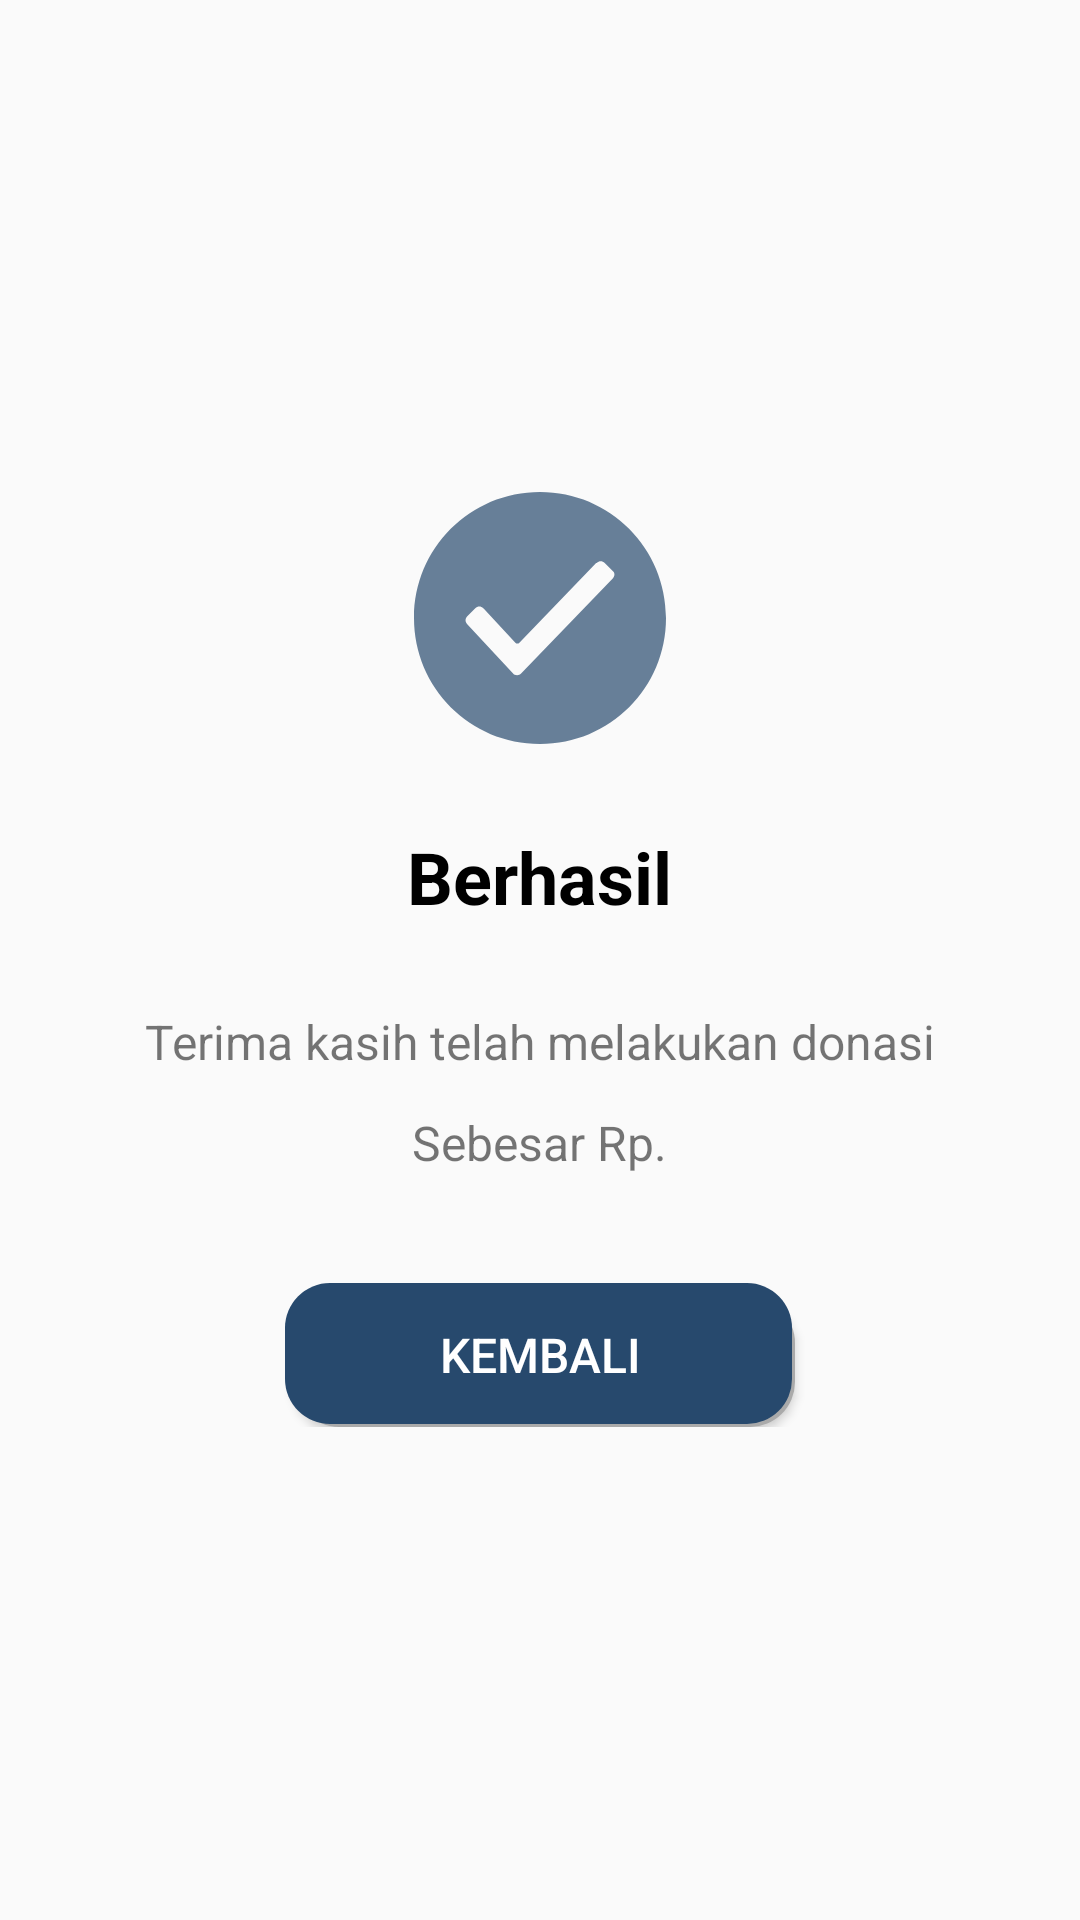

Icon click points for this 1080px x 1920px phone screenshot, format (x=x, y=y):
checked: (x=540, y=618)
